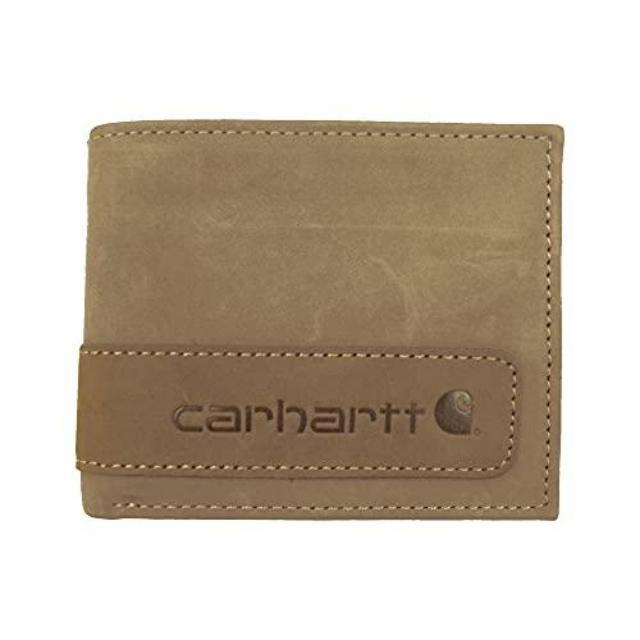wallet: (68, 115, 564, 525)
